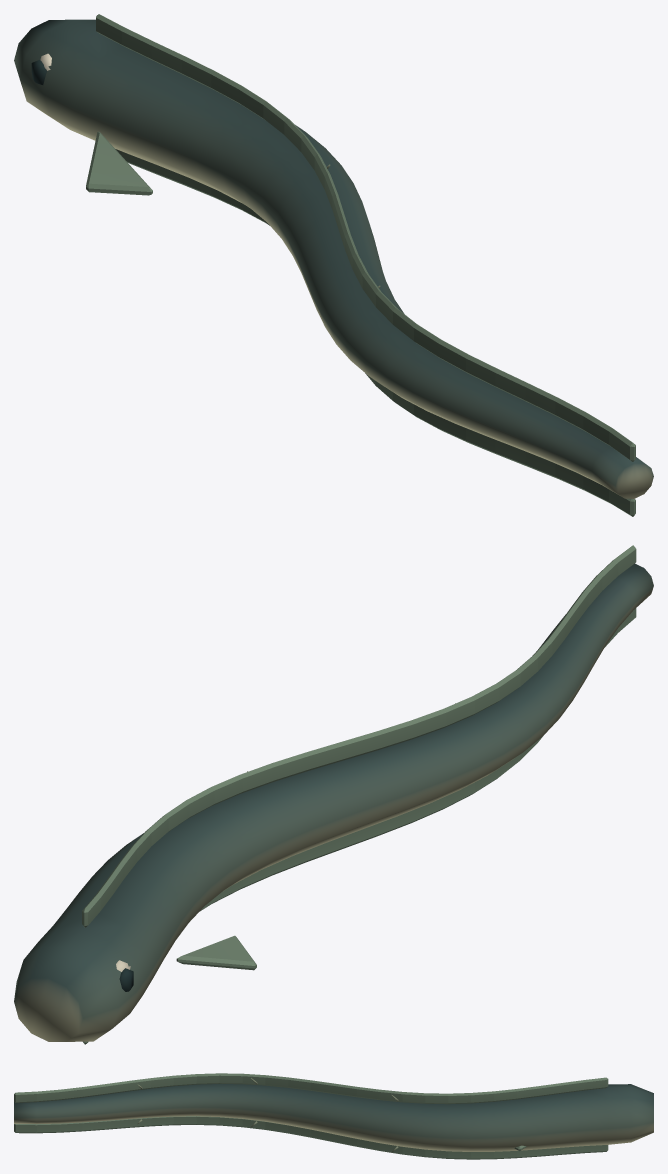
Rendered from fish_eel.glb.
3 views of the same model, one above another, from view 1: azimuth 30°, elevation 25°; view 2: azimuth 150°, elevation 25°; view 3: azimuth 270°, elevation 25° (orthographic). The views are drawn at different scales.
Size of the model in its own units: 0.1066 by 0.0769 by 0.6.
